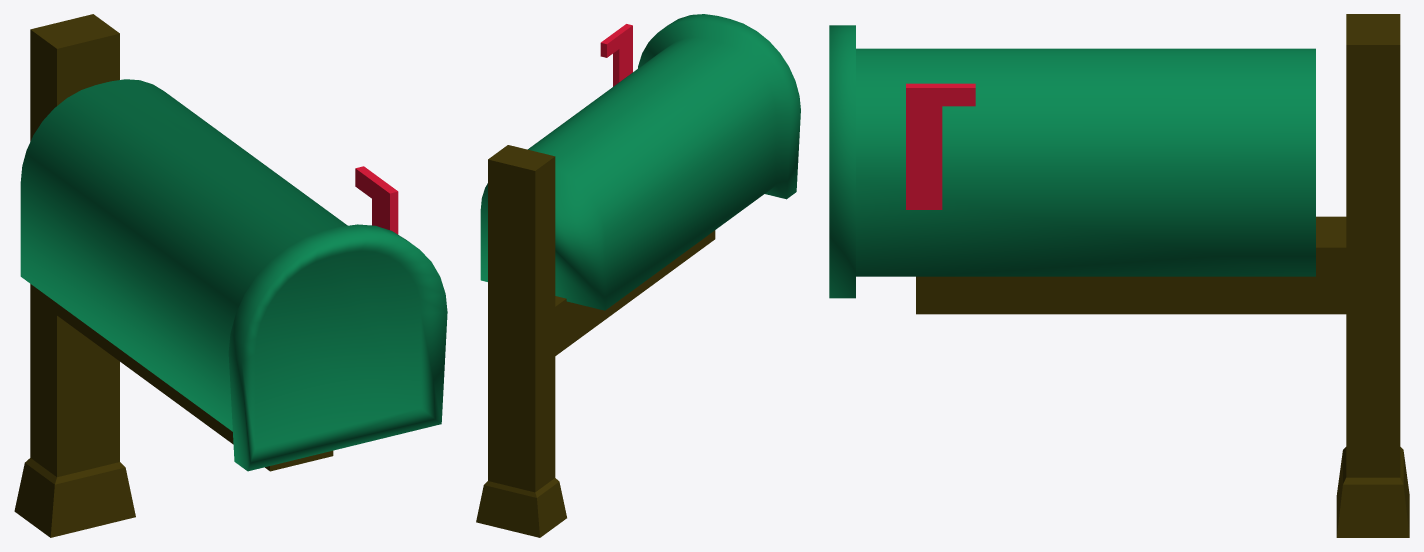
Rendered from Posta.fbx.
3 views of the same model, side by side, from view 1: azimuth 30°, elevation 25°; view 2: azimuth 150°, elevation 25°; view 3: azimuth 270°, elevation 25° (orthographic). The views are drawn at different scales.
Visible parts, largest first — view 1: Cube, Cube.002, Cube.001; view 2: Cube, Cube.002, Cube.001; view 3: Cube, Cube.002, Cube.001.
Boxes of the visible parts, box(x1,y1,x2,y2) form: Cube: box(20, 79, 447, 471); Cube.002: box(14, 14, 333, 537); Cube.001: box(355, 166, 398, 234); Cube: box(480, 14, 800, 310); Cube.002: box(476, 145, 715, 537); Cube.001: box(600, 24, 632, 86); Cube: box(829, 25, 1315, 298); Cube.002: box(916, 14, 1409, 537); Cube.001: box(906, 83, 975, 209).
Size of the model in its own units: 248 by 557 by 601.
